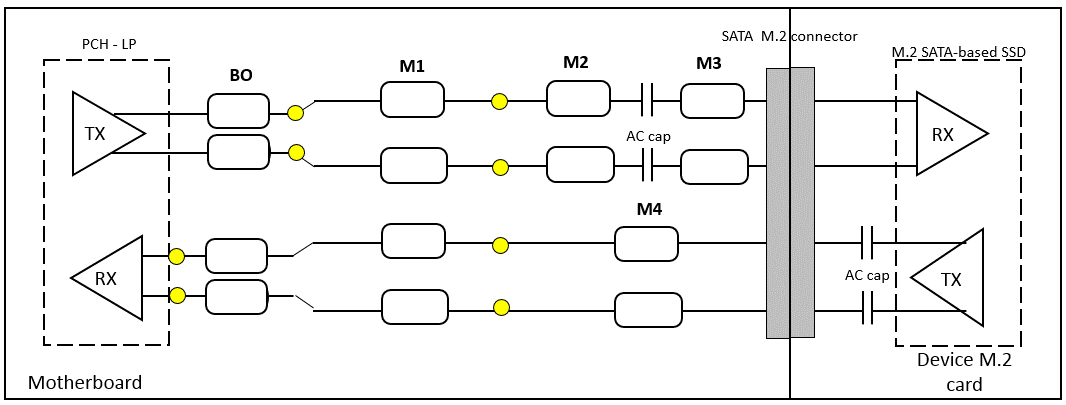capacitor: (633, 78, 658, 124), (633, 142, 658, 188), (853, 219, 878, 265), (851, 282, 876, 328)
circle: (286, 98, 308, 128), (285, 139, 307, 169), (164, 242, 186, 272), (164, 282, 186, 312), (489, 84, 511, 114), (490, 152, 512, 182), (489, 231, 511, 261), (490, 292, 512, 322)
dotted_rectangle: (880, 58, 1031, 352), (31, 56, 171, 354)
oval: (371, 74, 447, 123), (375, 139, 451, 188), (375, 215, 451, 264), (377, 279, 453, 328), (539, 73, 615, 122), (541, 141, 617, 190), (675, 78, 751, 127), (675, 144, 751, 193), (606, 222, 682, 271), (607, 287, 683, 336), (206, 86, 276, 131), (201, 128, 271, 173), (198, 231, 268, 276), (202, 277, 272, 322)
rectangle: (757, 62, 821, 346)
triangle: (909, 227, 994, 328), (66, 229, 148, 323), (909, 85, 991, 179), (67, 86, 149, 180)
